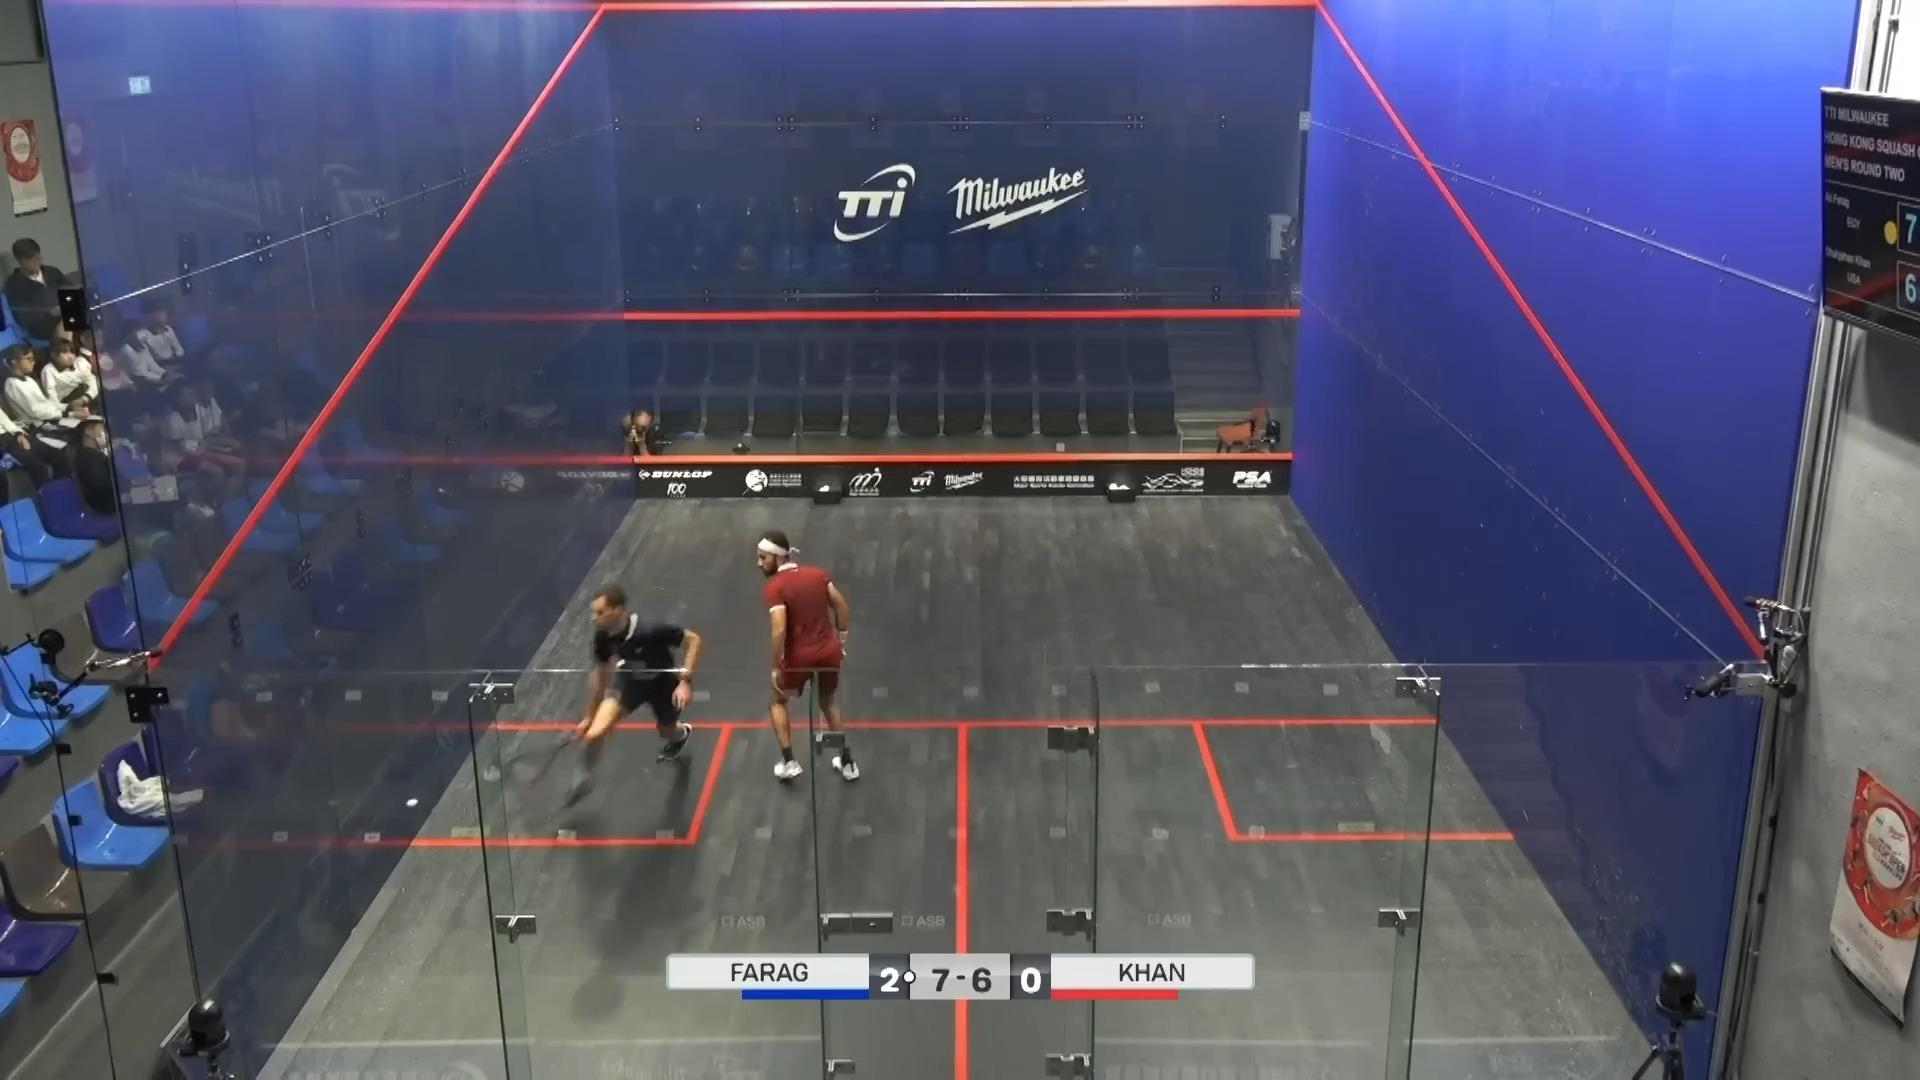Racket: (498, 736, 576, 795)
